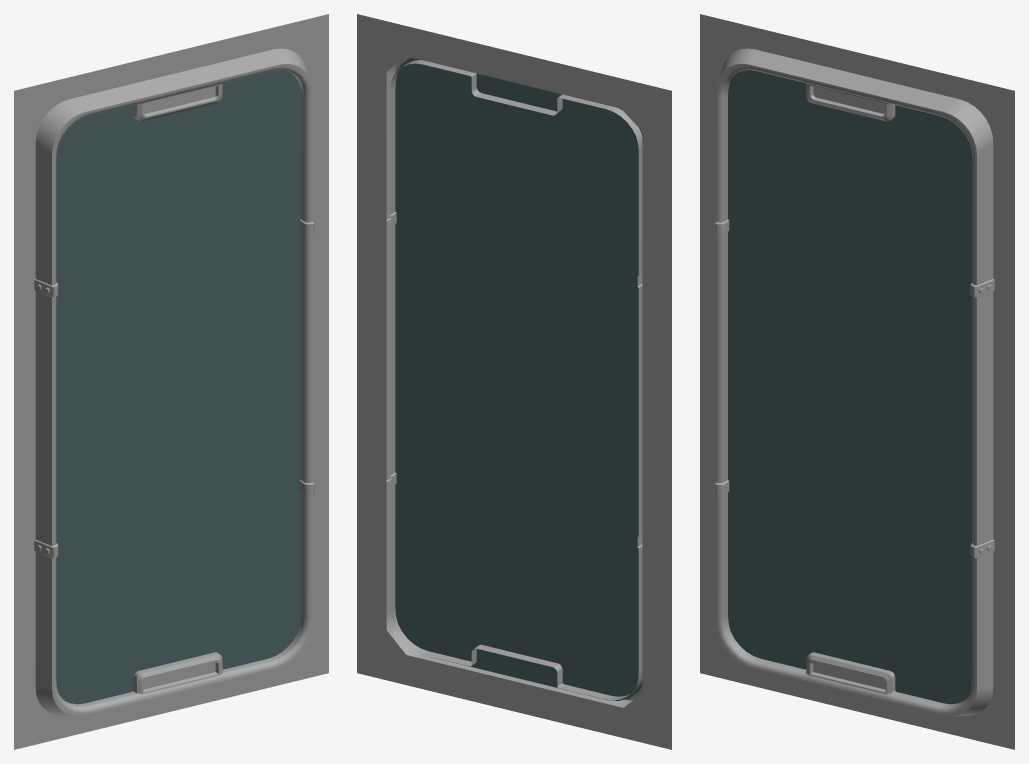
The model's file is Window_2x4.fbx.
3 views of the same model, side by side, from view 1: azimuth 30°, elevation 25°; view 2: azimuth 150°, elevation 25°; view 3: azimuth 330°, elevation 25° (orthographic).
Parts seen in each view (by area): view 1: WindowWall; view 2: WindowWall; view 3: WindowWall.
Boxes of the visible parts, left/top/right/bottom form: WindowWall: left=14, top=14, right=328, bottom=749; WindowWall: left=357, top=14, right=671, bottom=749; WindowWall: left=700, top=14, right=1014, bottom=749.
Size of the model in its own units: 2 by 4 by 0.1337.
